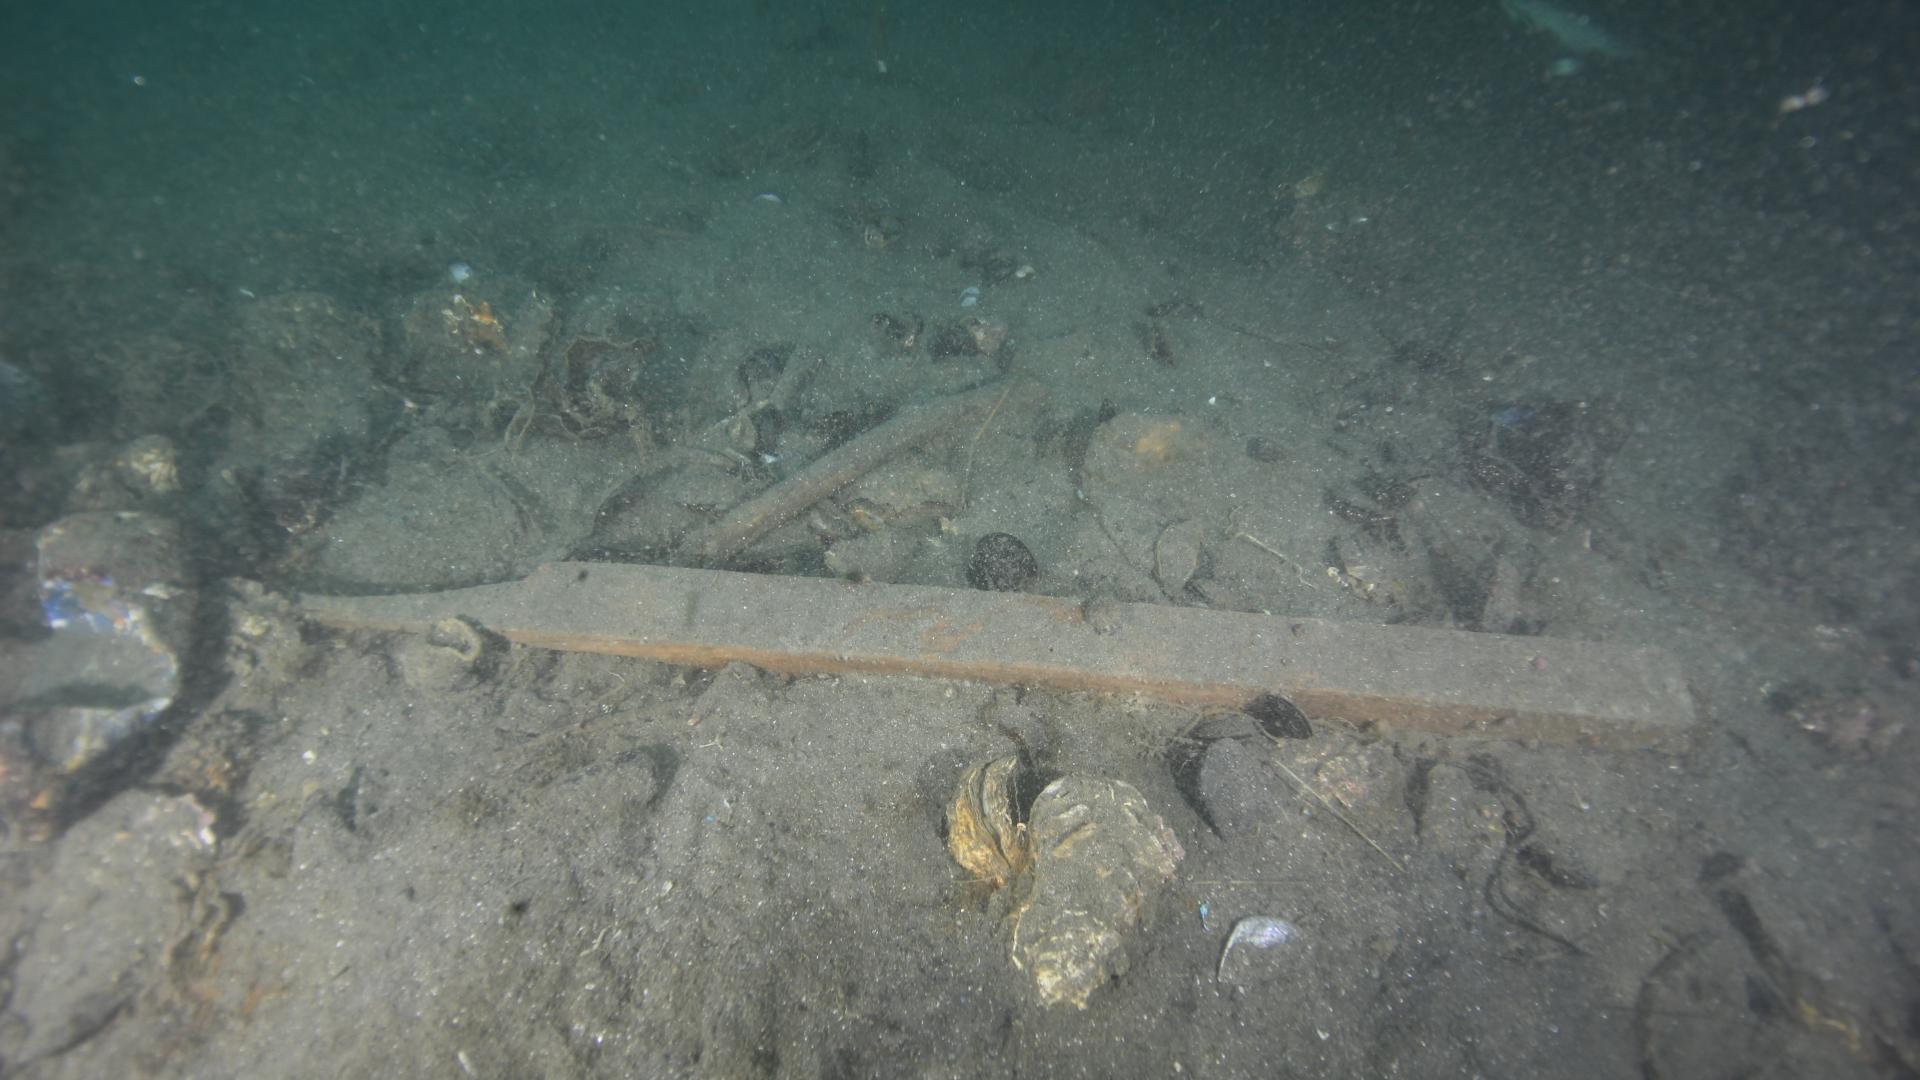wood: (290, 553, 1702, 764)
